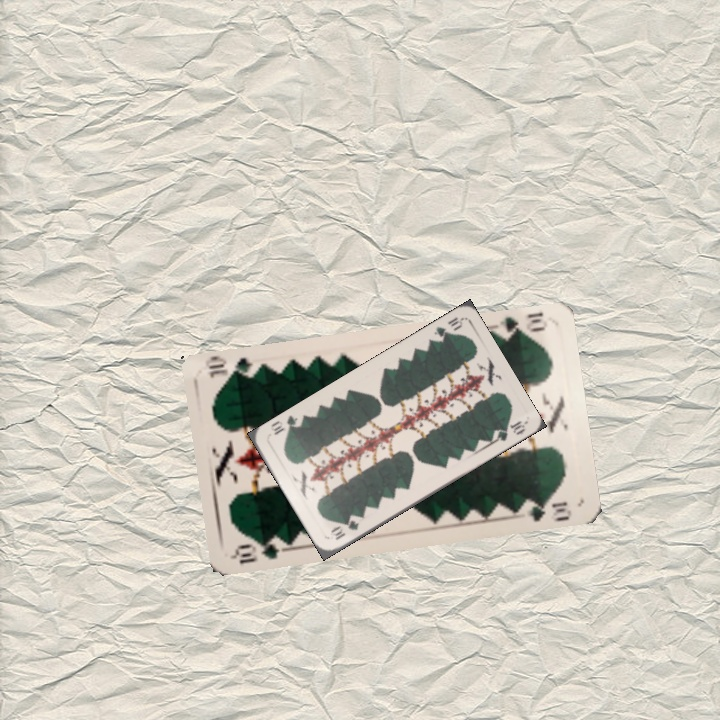G10: (230, 534, 290, 566), (491, 309, 548, 342), (429, 313, 465, 345), (326, 516, 362, 543)
